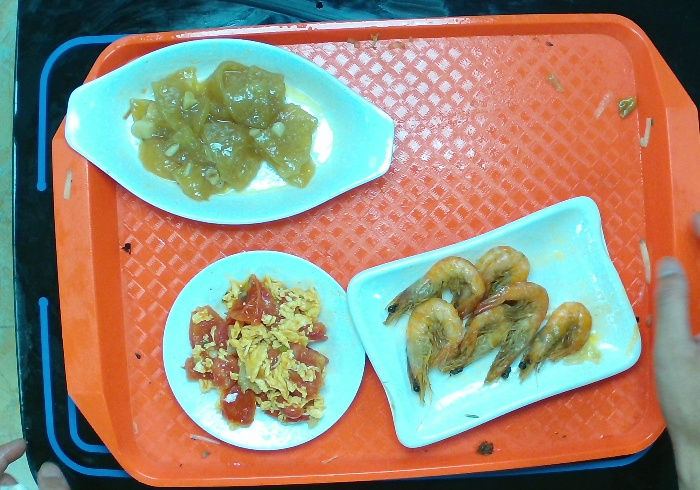RJxy-Si_Fang_Ao_Bian_Wan: (348, 194, 644, 448)
RJxy-Xiao_Yuan_Die: (159, 245, 367, 452)
RJxy-Yu_Pan: (65, 39, 395, 224)
